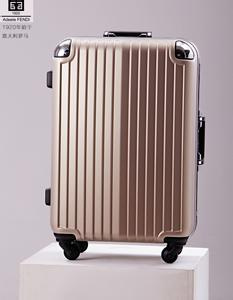luggage: (43, 28, 209, 264)
